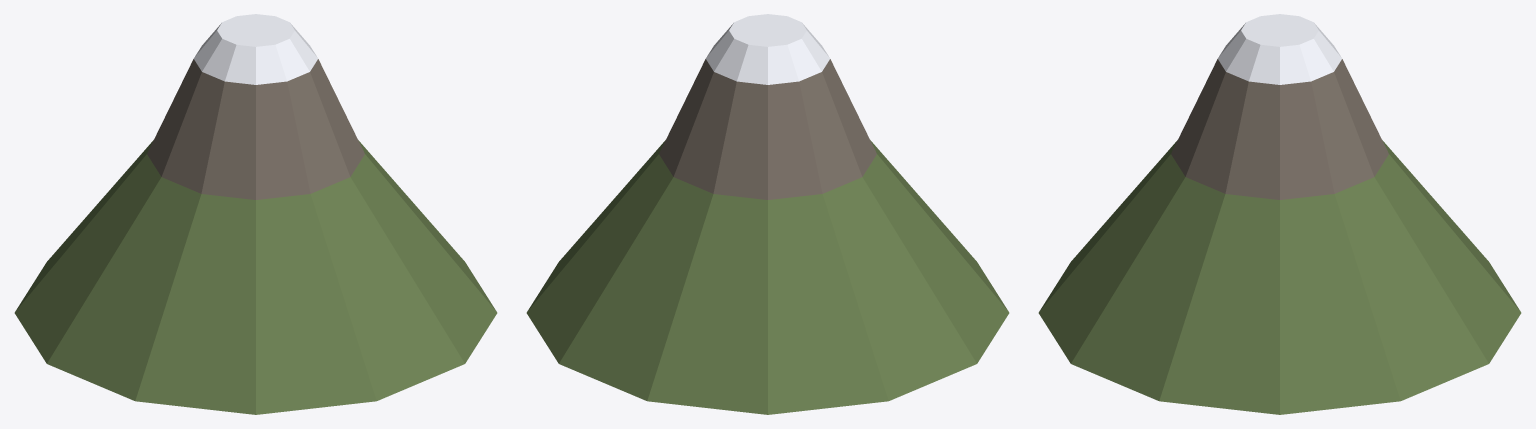
File: kilimanjaro.glb
The picture shows the model from 3 angles, left to right: view 1: azimuth 30°, elevation 25°; view 2: azimuth 150°, elevation 25°; view 3: azimuth 270°, elevation 25°; orthographic projection.
Parts seen in each view (by area): view 1: kilimanjaro; view 2: kilimanjaro; view 3: kilimanjaro.
Part boxes in pixels (x1,y1,x2,y2): kilimanjaro: (14,14,497,414); kilimanjaro: (526,14,1009,414); kilimanjaro: (1038,14,1521,414).
Bounding box in the file's own units: 1.24 × 0.8 × 1.24.
